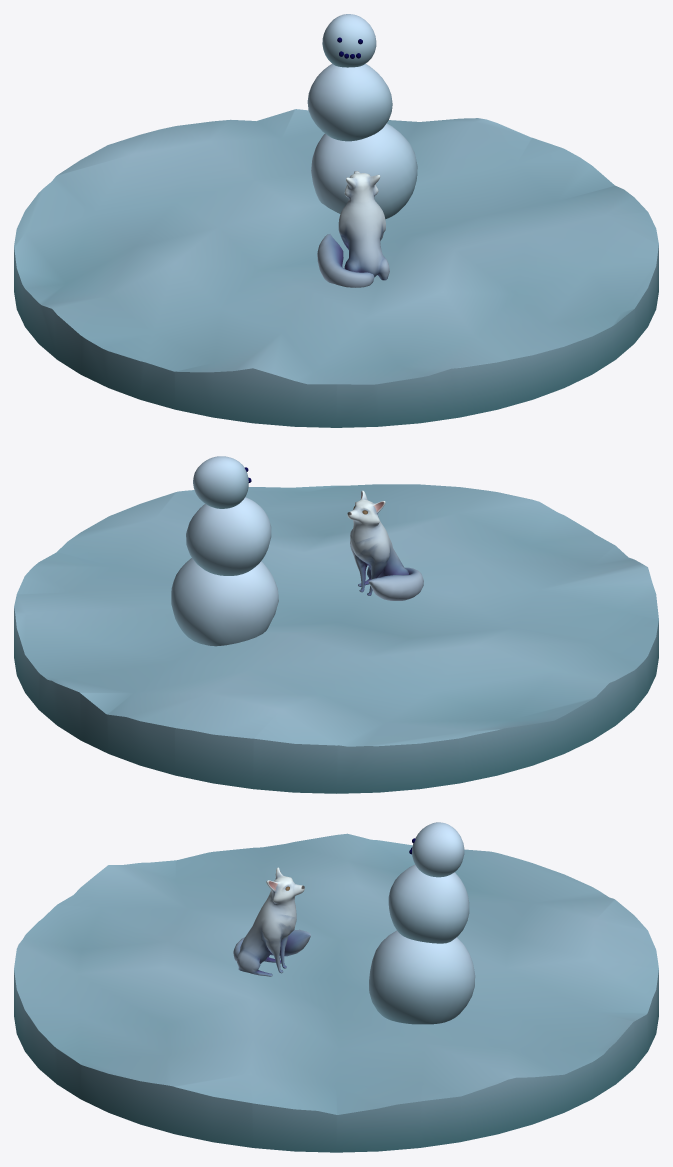
The model's file is SnowFox.fbx.
3 renders of one model, top to bottom at view 1: azimuth 30°, elevation 25°; view 2: azimuth 150°, elevation 25°; view 3: azimuth 270°, elevation 25°, orthographic.
Parts seen in each view (by area): view 1: Ground, Snowman, SnowFox; view 2: Ground, Snowman, SnowFox; view 3: Ground, Snowman, SnowFox.
Boxes of the visible parts, left/top/right/bottom form: Ground: left=14, top=109, right=658, bottom=427; Snowman: left=307, top=14, right=417, bottom=219; SnowFox: left=317, top=171, right=389, bottom=287; Ground: left=14, top=484, right=658, bottom=793; Snowman: left=171, top=456, right=278, bottom=646; SnowFox: left=347, top=490, right=423, bottom=600; Ground: left=14, top=833, right=658, bottom=1152; Snowman: left=369, top=822, right=475, bottom=1024; SnowFox: left=233, top=867, right=310, bottom=976.
Size of the model in its own units: 230 by 87.07 by 230.
